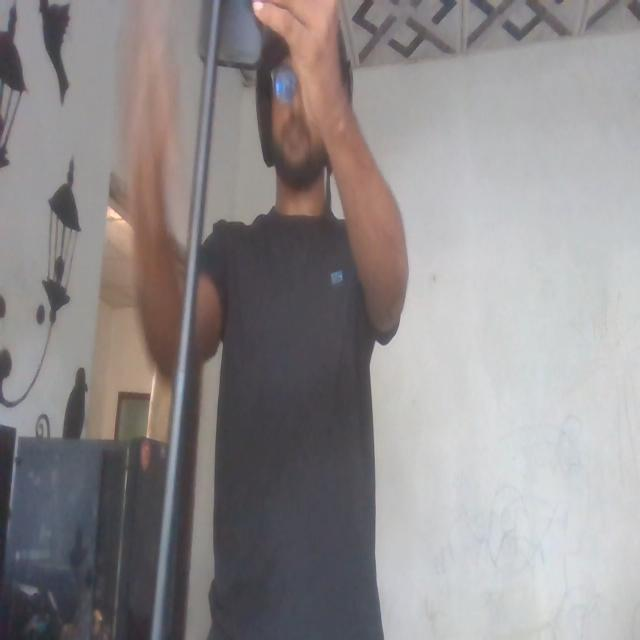Helmet_Wearer: (253, 0, 355, 182)
Person: (198, 0, 406, 640)
